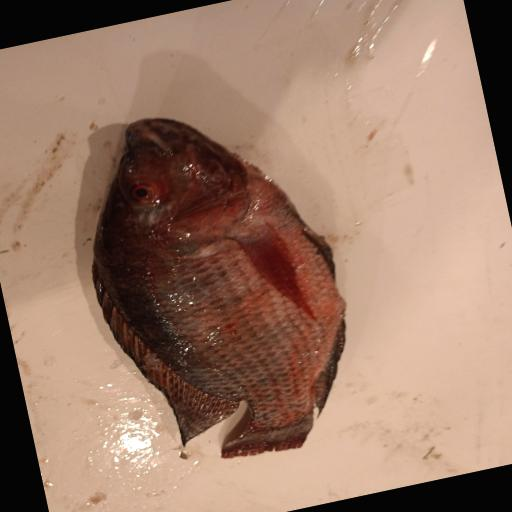Tilapia: (62, 85, 373, 482)
